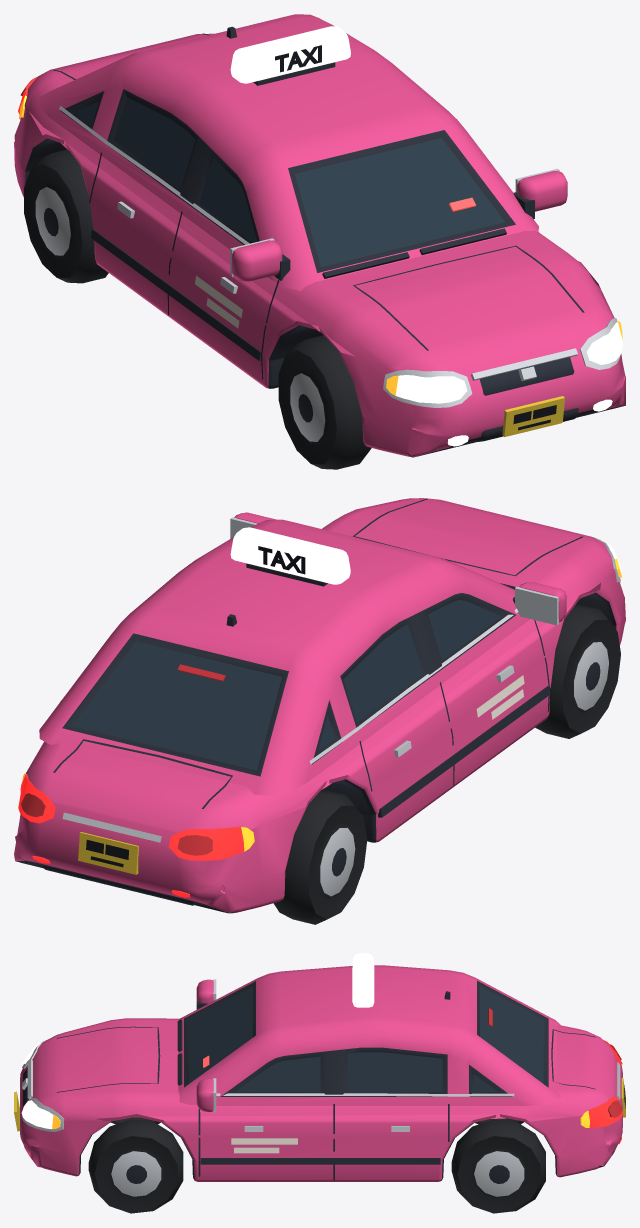
File: veh_taxi.glb
The picture shows the model from 3 angles, top to bottom: view 1: azimuth 30°, elevation 25°; view 2: azimuth 150°, elevation 25°; view 3: azimuth 270°, elevation 25°; orthographic projection. The views are drawn at different scales.
Visible parts, largest first — view 1: body, wheel_FR, wheel_RR, taxi_sign, head_lights, mirror_R, mirror_L; view 2: body, wheel_RR, wheel_FR, taxi_sign, mirror_R, brake_lights; view 3: body, wheel_FL, wheel_RL, taxi_sign, head_lights, mirror_L, mirror_R.
Boxes of the visible parts, bbox=[...] form: body: bbox=[14, 14, 625, 457]; wheel_FR: bbox=[278, 335, 371, 469]; wheel_RR: bbox=[24, 149, 108, 283]; taxi_sign: bbox=[230, 26, 350, 85]; head_lights: bbox=[395, 322, 622, 446]; mirror_R: bbox=[230, 238, 290, 281]; mirror_L: bbox=[513, 168, 567, 218]; body: bbox=[14, 498, 625, 913]; wheel_RR: bbox=[273, 789, 367, 924]; wheel_FR: bbox=[535, 604, 620, 738]; taxi_sign: bbox=[230, 527, 350, 586]; mirror_R: bbox=[513, 581, 566, 625]; brake_lights: bbox=[21, 664, 225, 855]; body: bbox=[14, 965, 625, 1181]; wheel_FL: bbox=[88, 1119, 183, 1213]; wheel_RL: bbox=[451, 1119, 545, 1213]; taxi_sign: bbox=[352, 953, 374, 1007]; head_lights: bbox=[18, 1038, 53, 1147]; mirror_L: bbox=[196, 1078, 216, 1112]; mirror_R: bbox=[196, 979, 216, 1009].
Size of the model in its own units: 2.04 by 1.64 by 4.59.
